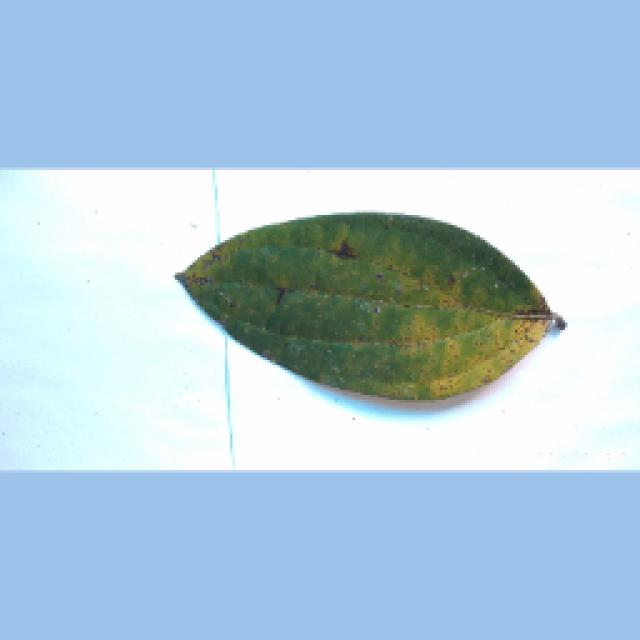slow-decline: (165, 202, 575, 410)
